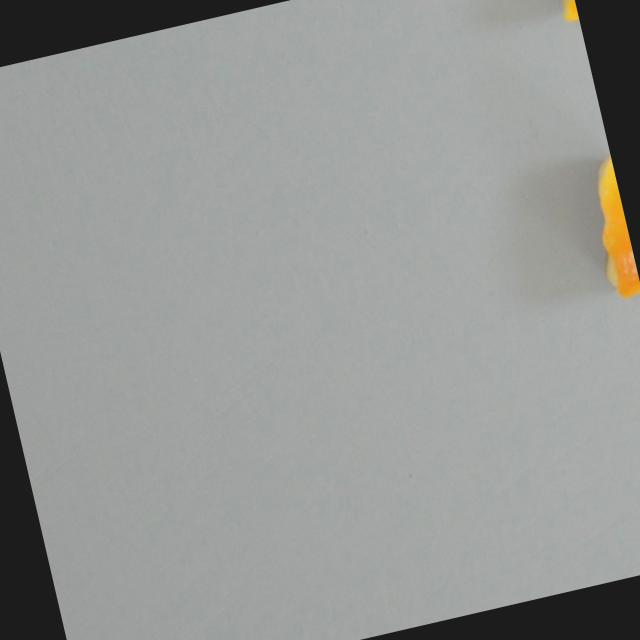dañado: (552, 0, 580, 28)
pelicula: (576, 153, 640, 303)
